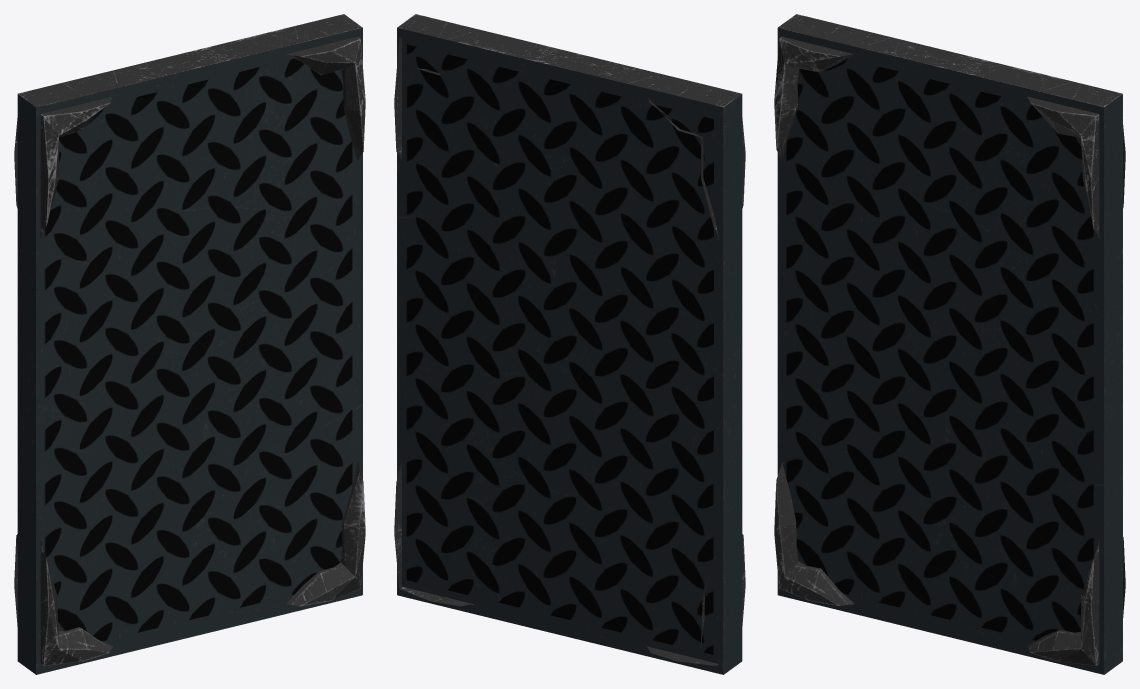
The model's file is CatwalkCorrcted.gltf.
3 views of the same model, side by side, from view 1: azimuth 30°, elevation 25°; view 2: azimuth 150°, elevation 25°; view 3: azimuth 330°, elevation 25° (orthographic).
Visible parts, largest first — view 1: Cube.041; view 2: Cube.041; view 3: Cube.041.
Boxes of the visible parts, box(x1,y1,x2,y2) form: Cube.041: box(14, 14, 365, 674); Cube.041: box(394, 14, 745, 674); Cube.041: box(774, 14, 1125, 674).
Size of the model in its own units: 3.02 by 5.02 by 0.5525.
Materials: 1 (1 with a texture image).
